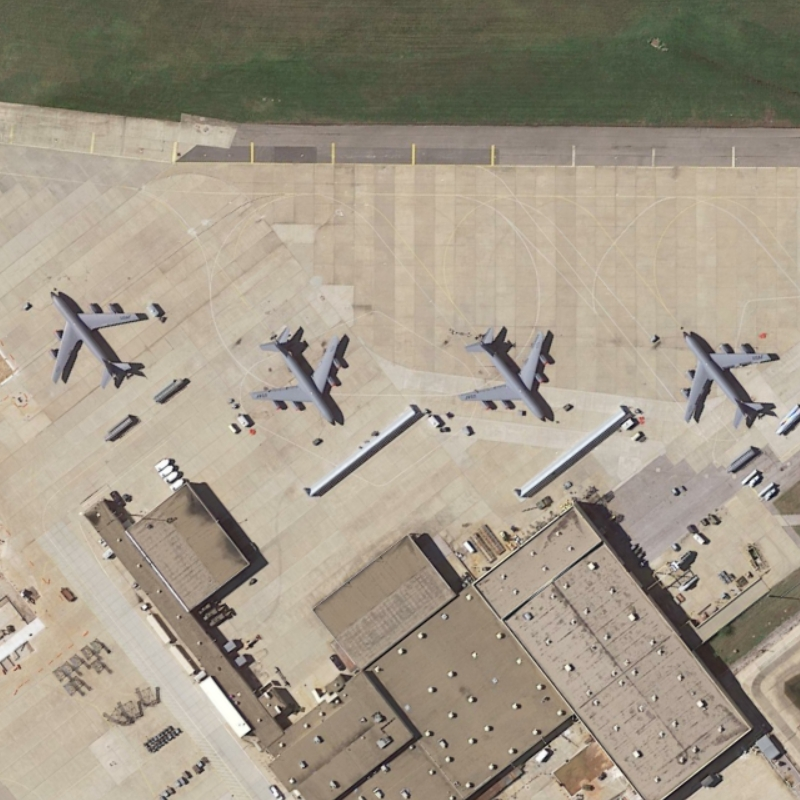A14: (43, 278, 154, 399), (248, 320, 363, 432), (669, 320, 781, 433), (460, 320, 564, 434)
